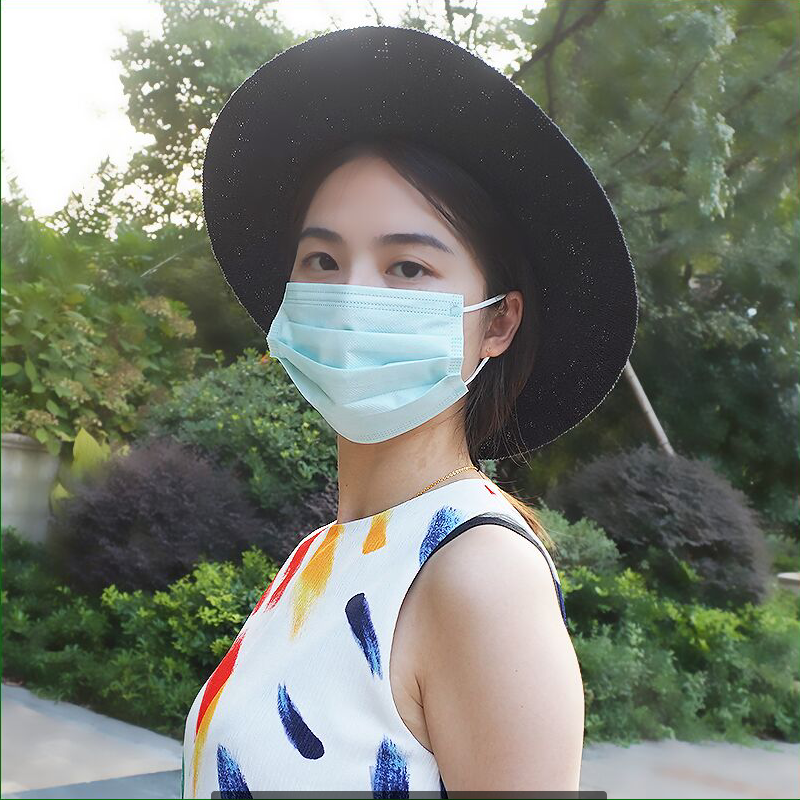face_mask: (280, 153, 486, 435)
